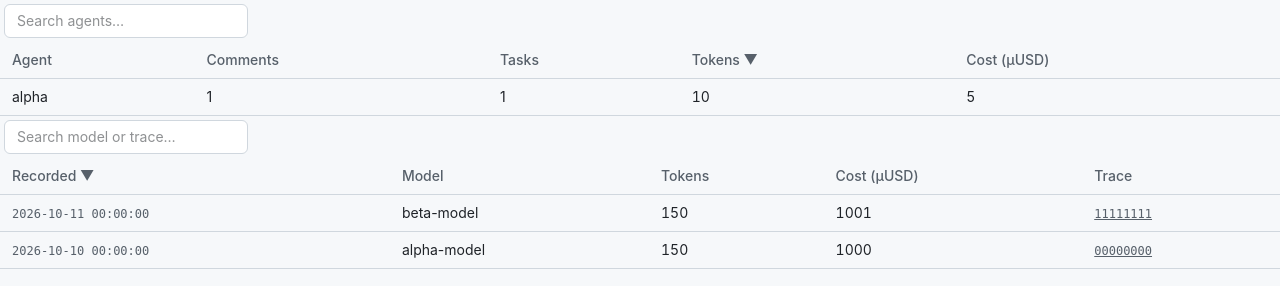
Table UX (w3-tables) › usage table shows its empty state when empty, filters otherwise
Expected: the text "alpha" is shown, [0,78,194,116]
Expected: the text "alpha-model" is shown, [390,232,649,268]
Type "beta-model" into the search field named "Search usage" at (126, 137), box [4,120,248,154]
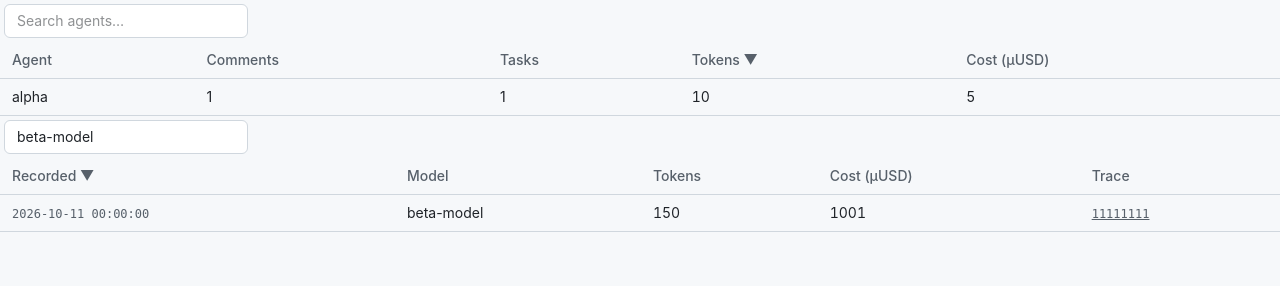
Result: the text "alpha-model" is gone
